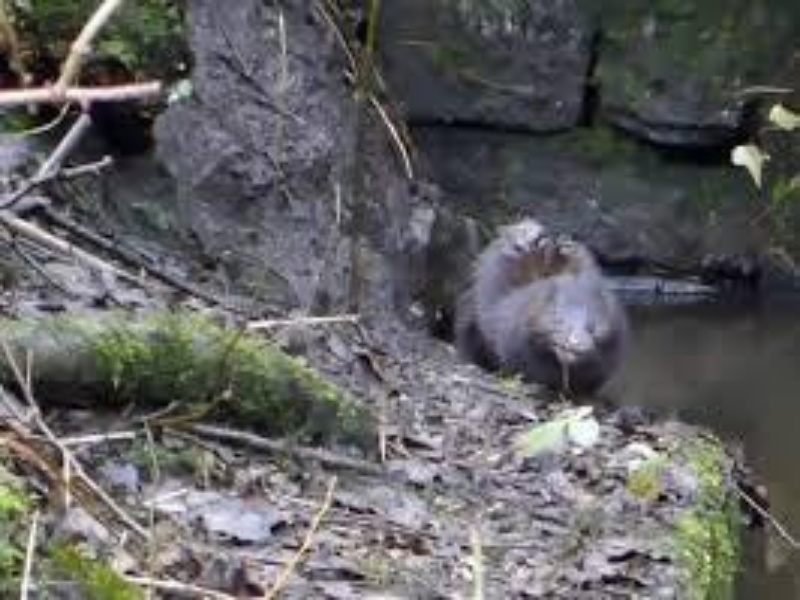minkish: (453, 234, 629, 397)
